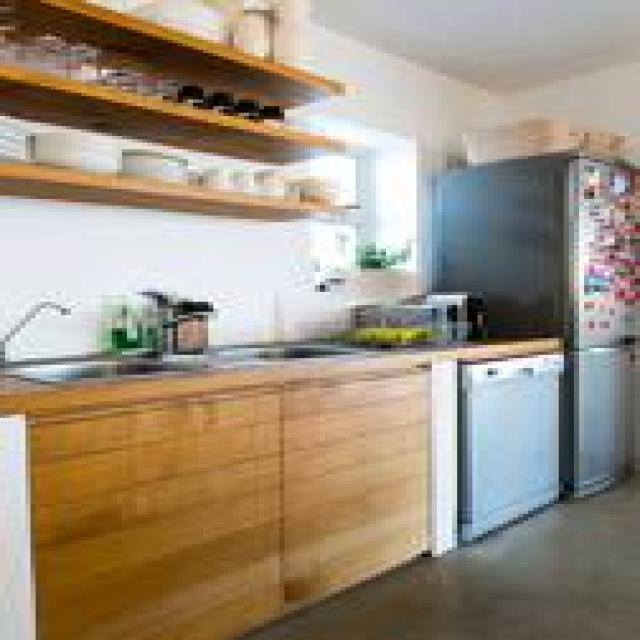dishwasher: (457, 345, 554, 540)
